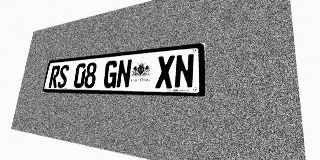0: (73, 63, 87, 88)
8: (83, 62, 98, 88)
G: (103, 60, 119, 88)
N: (174, 53, 195, 88), (116, 59, 132, 88)
R: (48, 65, 61, 88)
S: (57, 64, 70, 88)
X: (155, 55, 175, 88)
